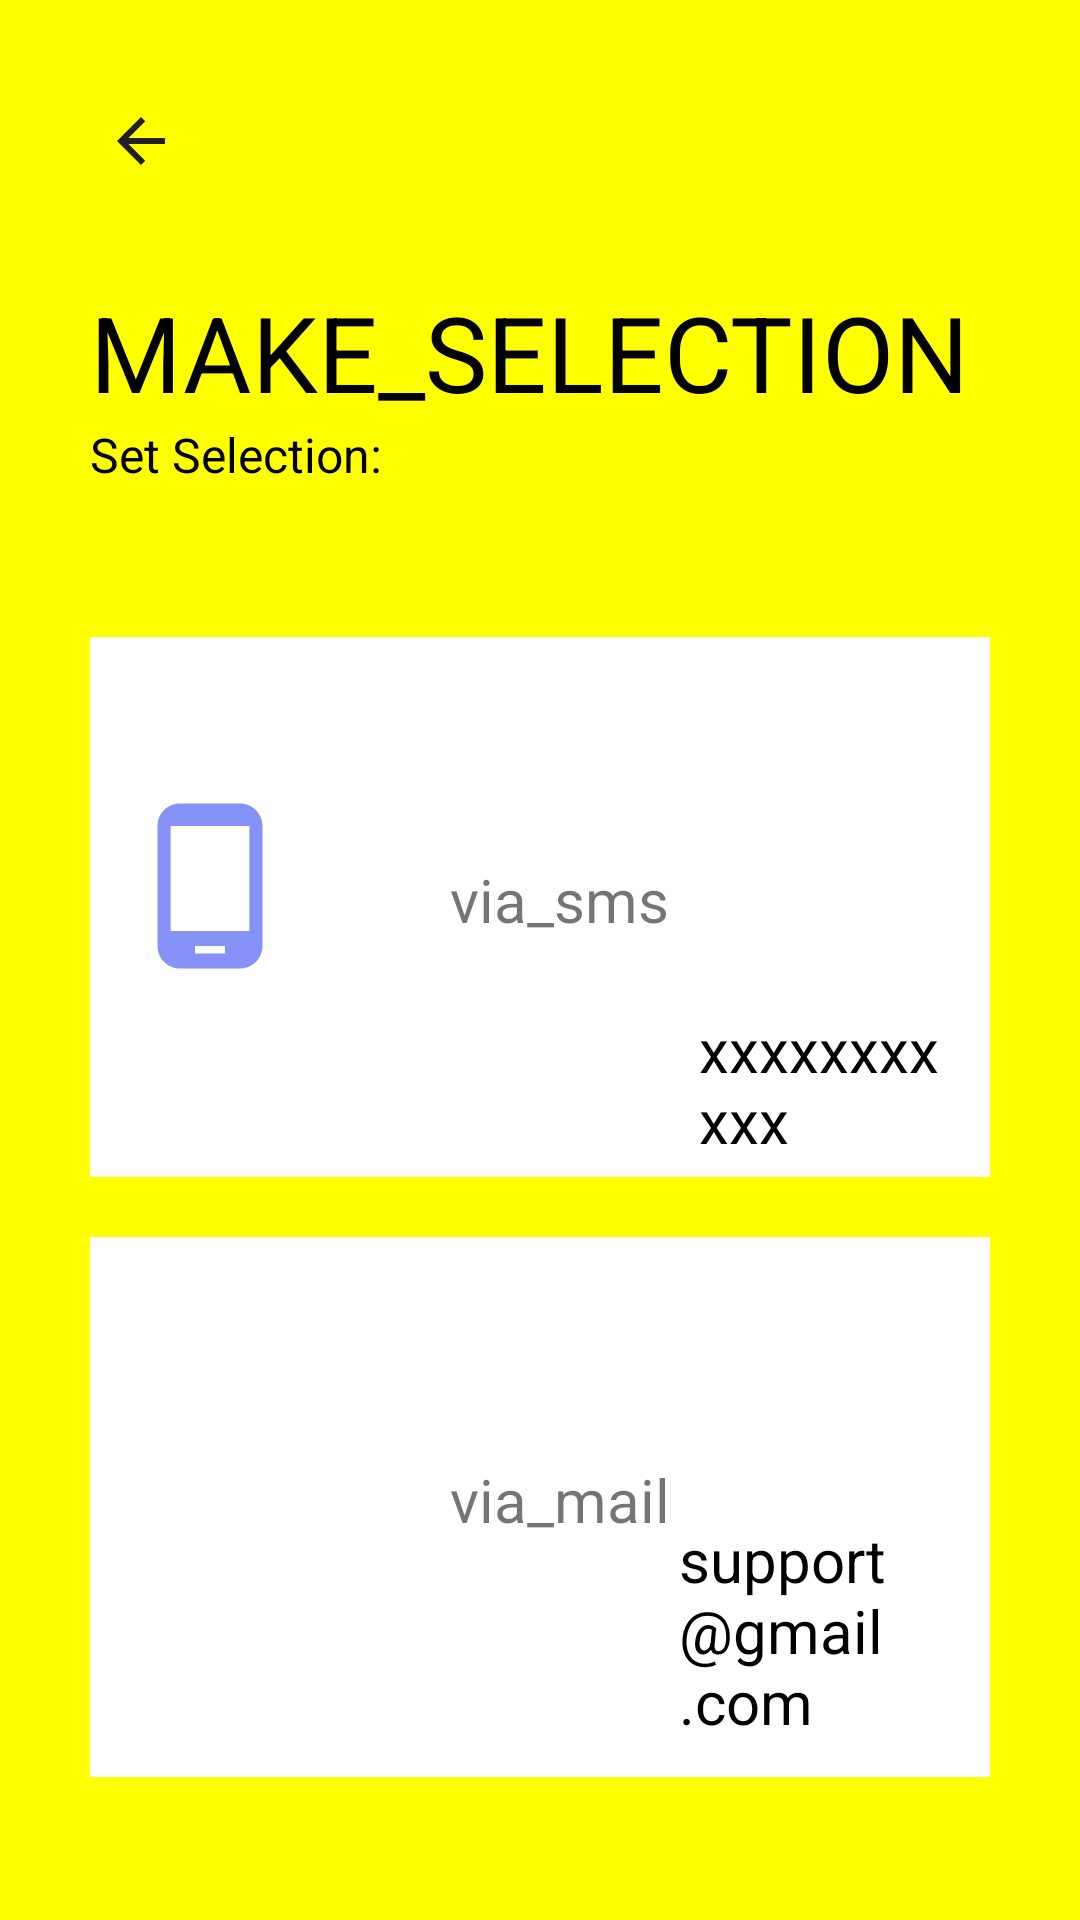

Locate icon controls on the screen. Image size 1080px×1920px, boxes as (x1, y1, x2, y2).
arrow back: (117, 117, 165, 165)
phone android: (157, 803, 263, 969)
